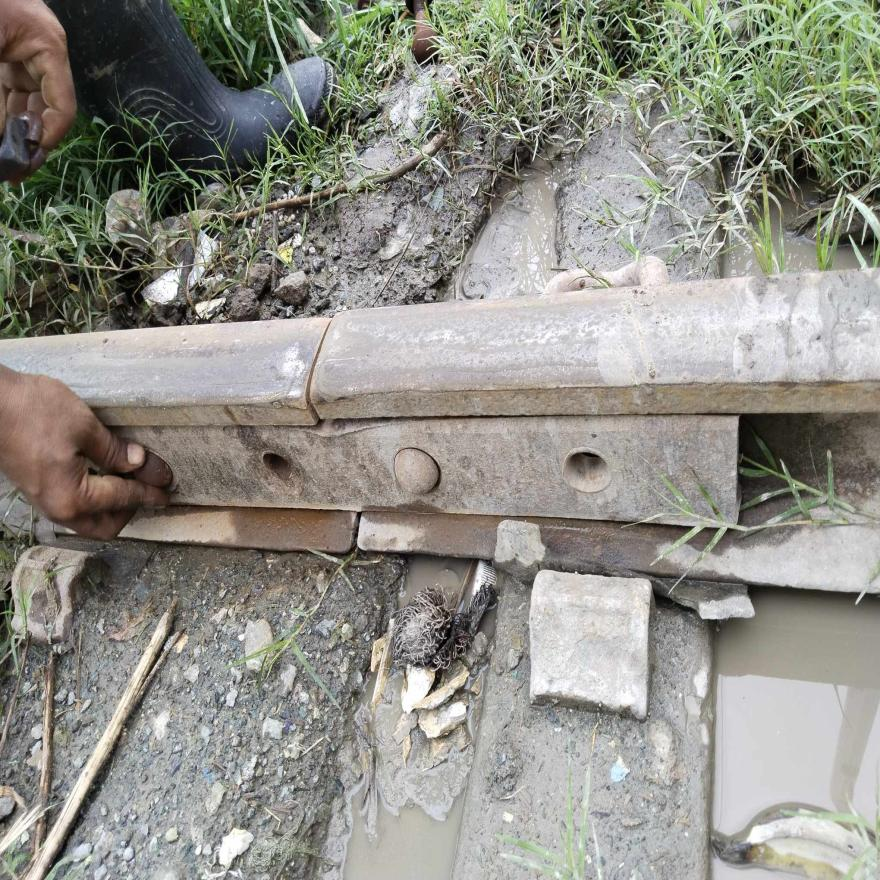railway-gap: (263, 291, 368, 427), (328, 498, 382, 569)
